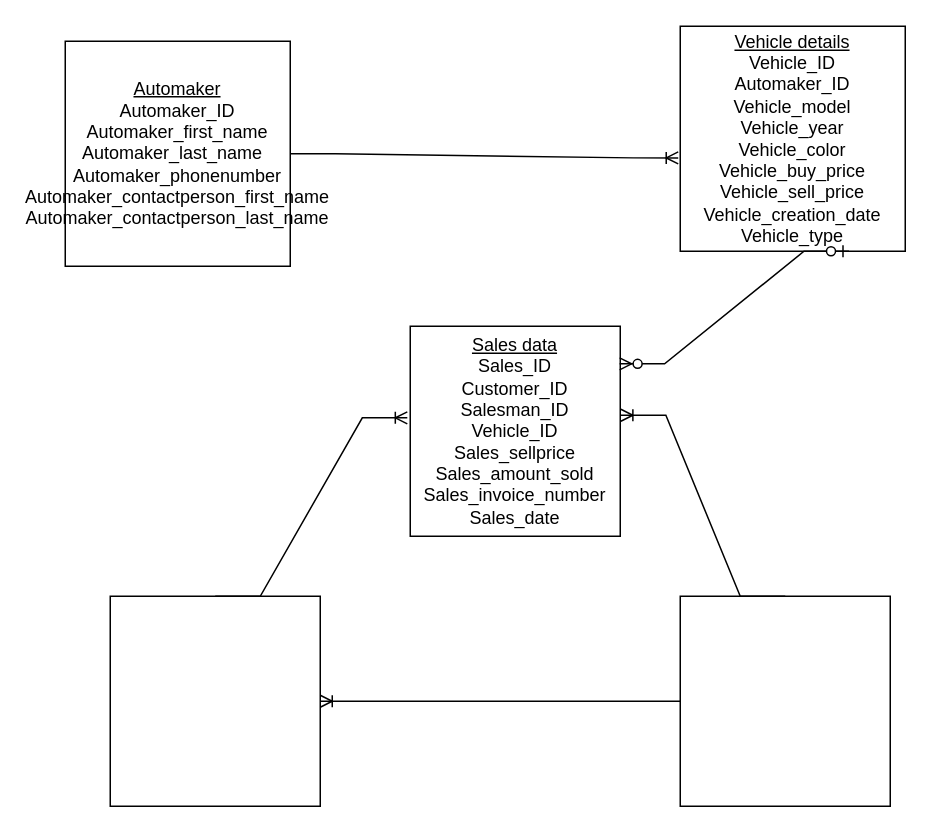
This 932x833 diagram has some shape labels left out. The centre of each missing label's shape, as x and y in pixels:
Customer Customer_ID First_name Last_name Address: (x=214, y=700)
Salesman Salesman_ID Customer_ID First_name Last_name Address: (x=784, y=700)
